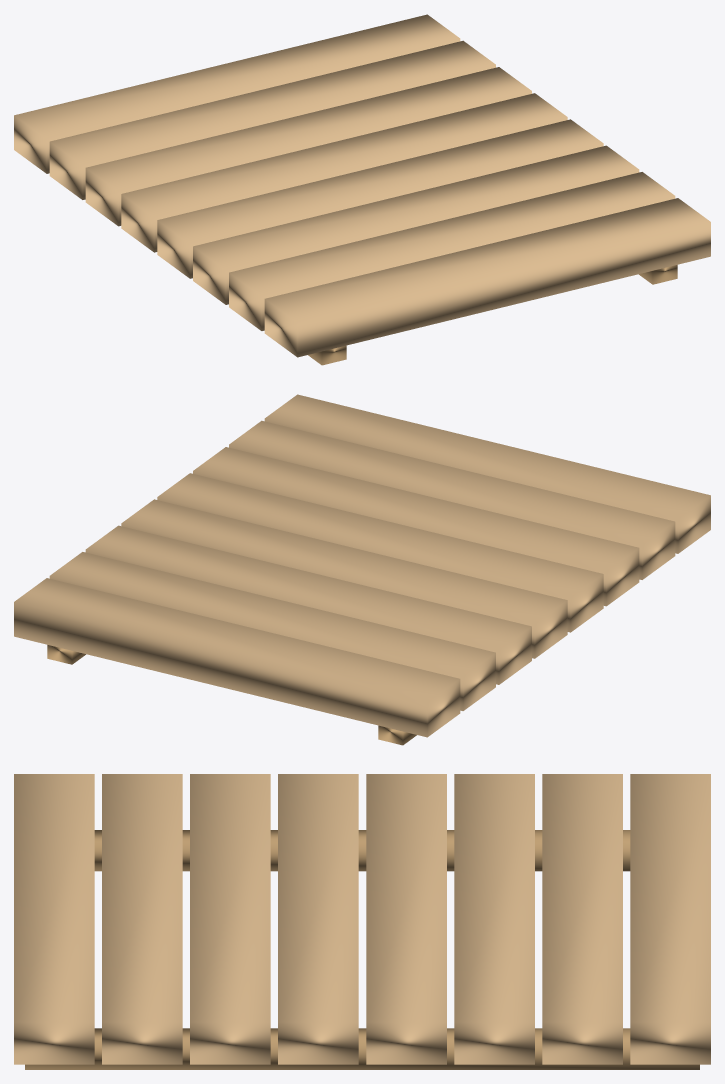
File: pier_deck_low.glb
3 views of the same model, one above another, from view 1: azimuth 30°, elevation 25°; view 2: azimuth 150°, elevation 25°; view 3: azimuth 270°, elevation 25° (orthographic). The views are drawn at different scales.
Bounding box in the file's own units: 2 × 0.245 × 2.37.
